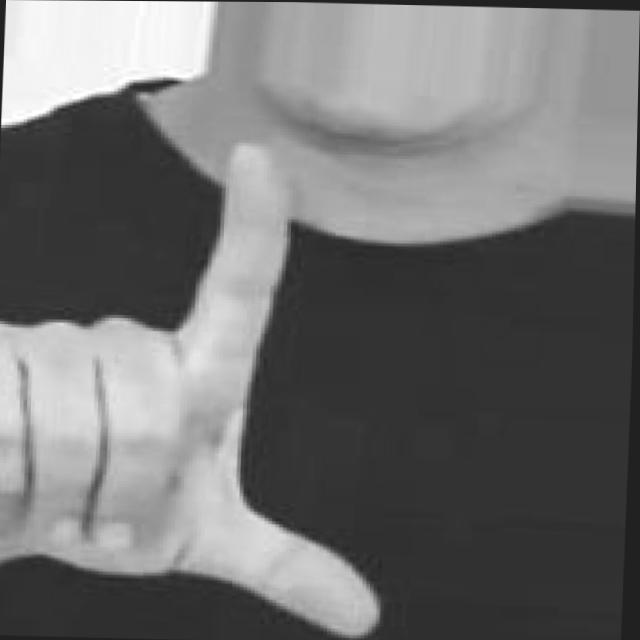L: (0, 130, 413, 640)
